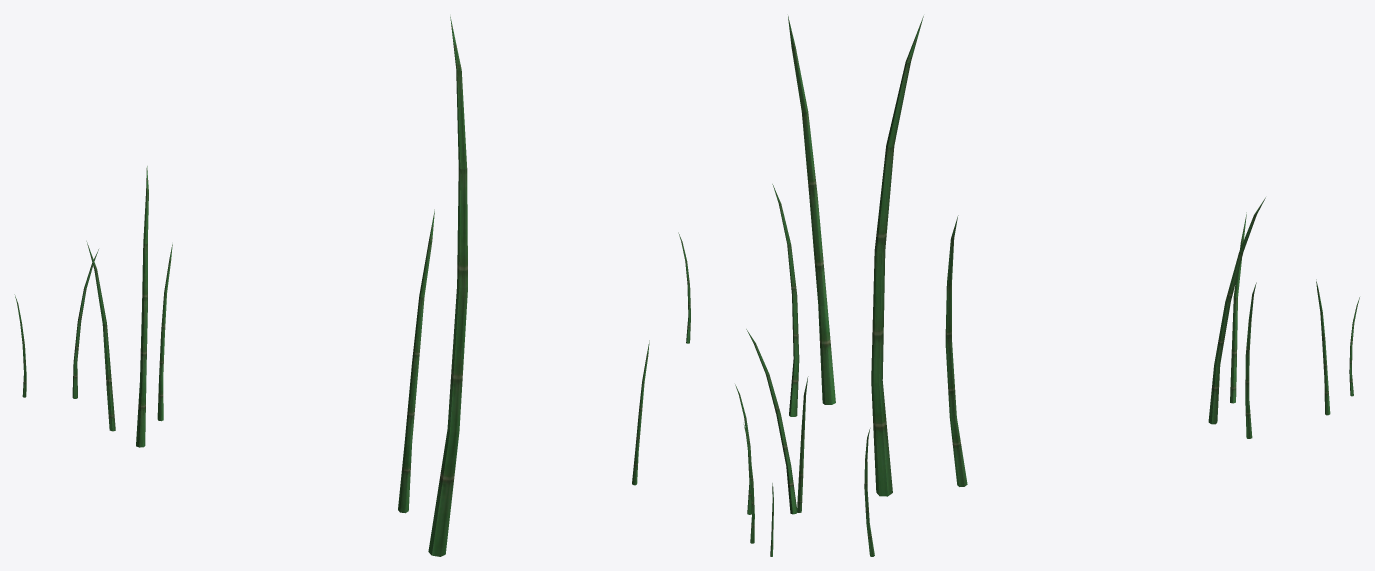
The model's file is Area_06_42.fbx.
The picture shows the model from 3 angles, left to right: view 1: azimuth 30°, elevation 25°; view 2: azimuth 150°, elevation 25°; view 3: azimuth 270°, elevation 25°; orthographic projection. The views are drawn at different scales.
Parts seen in each view (by area): view 1: Area_06_42; view 2: Area_06_42; view 3: Area_06_42.
Boxes of the visible parts, x1,y1,x2,y2 form: Area_06_42: [14, 16, 649, 556]; Area_06_42: [678, 16, 835, 556]; Area_06_42: [864, 16, 1359, 556].
Size of the model in its own units: 2561 by 3332 by 3025.
